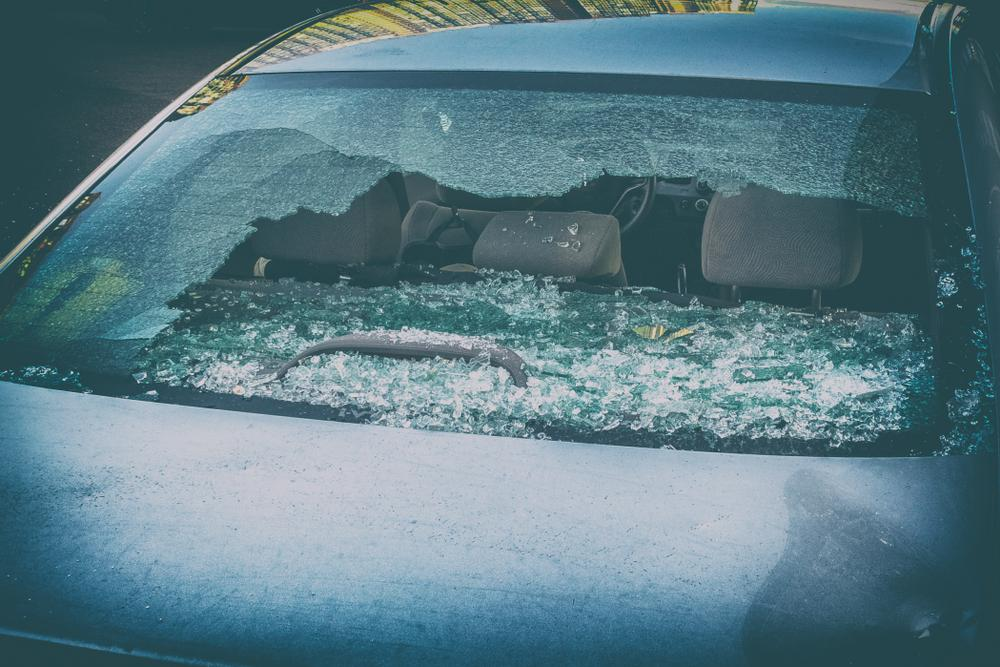glass shatter: (0, 70, 1000, 457)
